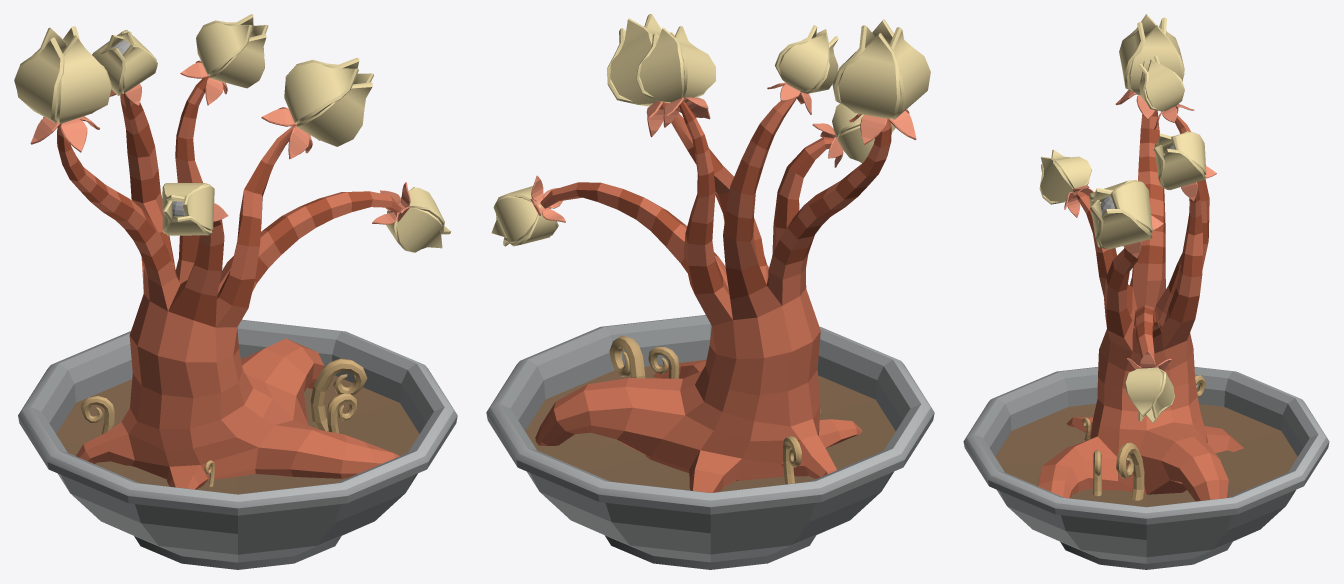
The model's file is NoAnimationRowan.fbx.
3 renders of one model, left to right at view 1: azimuth 30°, elevation 25°; view 2: azimuth 150°, elevation 25°; view 3: azimuth 270°, elevation 25°, orthographic. The views are drawn at different scales.
Visible parts, largest first — view 1: pCylinder6, polySurface14, polySurface25, polySurface24, polySurface26, polySurface27, polySurface19; view 2: pCylinder6, polySurface14, polySurface24, polySurface19, polySurface25, polySurface26, polySurface27; view 3: pCylinder6, polySurface25, polySurface14, polySurface24, polySurface27, polySurface26, polySurface19.
Boxes of the visible parts, x1,y1,x2,y2 form: pCylinder6: (18,76,457,569); polySurface14: (14,26,112,152); polySurface25: (261,58,373,159); polySurface24: (180,14,268,105); polySurface26: (372,182,450,252); polySurface27: (162,183,228,236); polySurface19: (92,30,157,105); pCylinder6: (486,97,934,569); polySurface14: (832,19,930,144); polySurface24: (636,26,715,127); polySurface19: (767,25,838,114); polySurface25: (607,14,703,137); polySurface26: (491,175,565,246); polySurface27: (812,103,895,167); pCylinder6: (963,110,1329,569); polySurface25: (1089,180,1163,258); polySurface14: (1115,14,1184,119); polySurface24: (1153,131,1216,201); polySurface27: (1039,149,1093,217); polySurface26: (1124,351,1174,423); polySurface19: (1139,55,1194,129).
Bounding box in the file's own units: 13.79 × 16.83 × 12.58.
2 materials, 1 textured.
